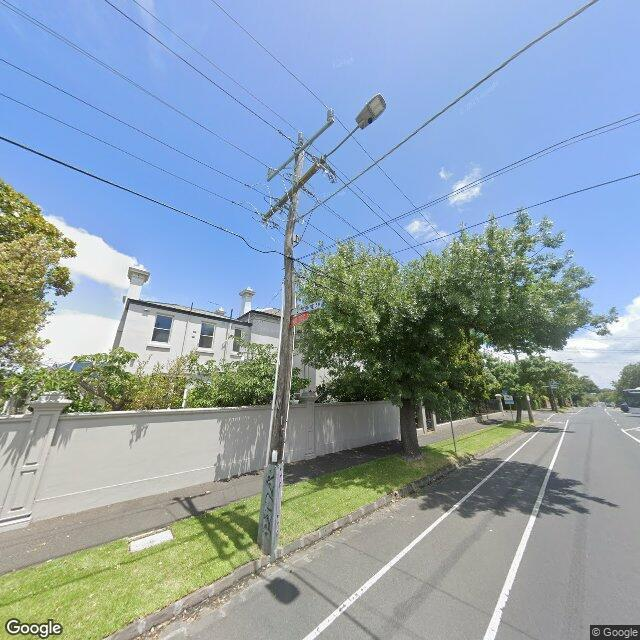HV-transmission: (266, 108, 335, 182)
crossarm: (231, 161, 324, 228), (267, 119, 335, 181)
streetlight: (326, 92, 388, 160)
timber-pole: (257, 143, 305, 554)
